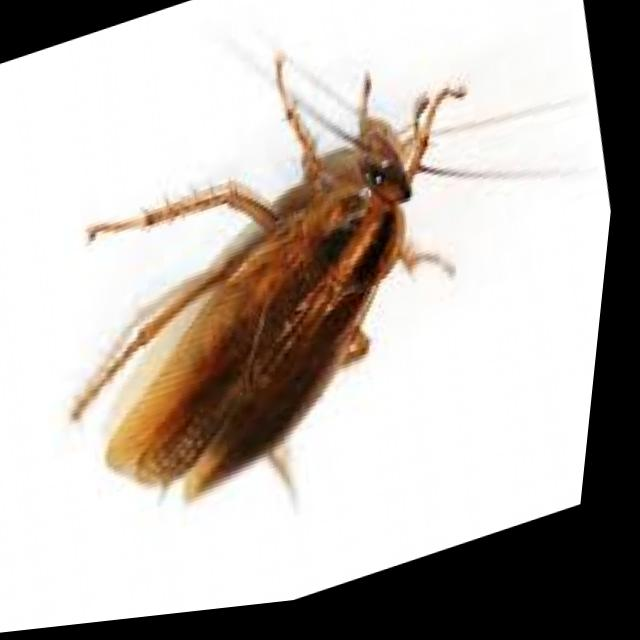Cockroach: (0, 0, 640, 608)
